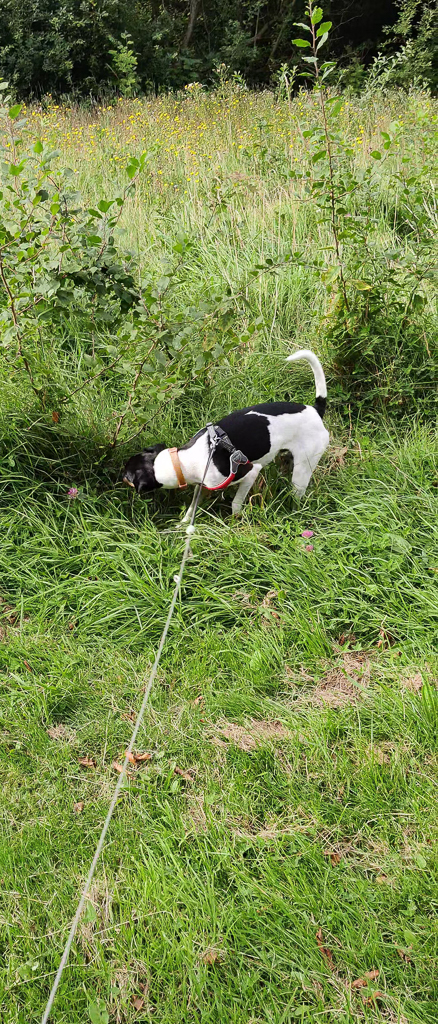Dog: (117, 343, 358, 538)
